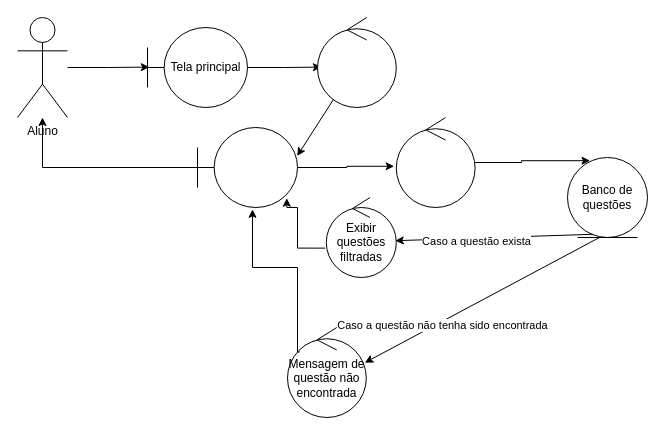
This 665x435 diagram has some shape labels left out. Here are the shapes that lost their labels. From the top down, the box of each, then its label:
(316, 16, 396, 108): Acessar tela de questões
(196, 126, 298, 208): Tela de questões
(395, 116, 475, 208): Filtrar questões
